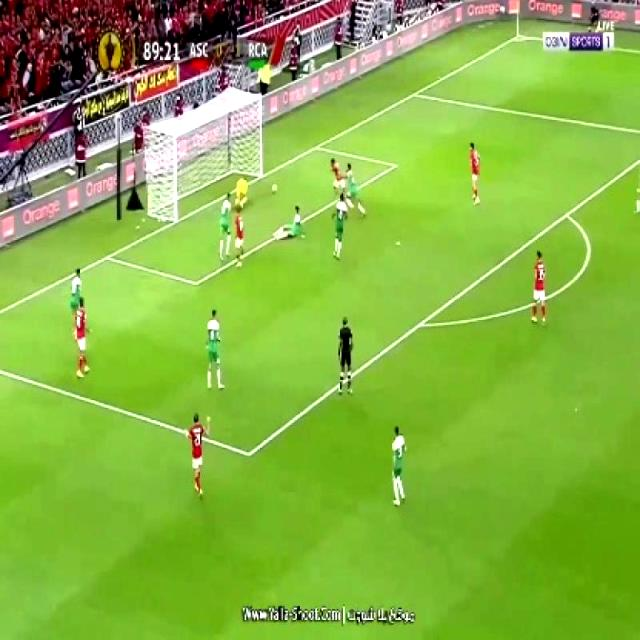bigarea_bottom_inner: (236, 437, 258, 468)
bigarea_top_outter: (404, 83, 422, 103)
bottom_arc_area_intersection: (409, 309, 429, 336)
corner: (508, 26, 529, 44)
smallarea_bottom_inner: (185, 268, 205, 296)
smallarea_bottom_outter: (97, 244, 115, 266)
smallarea_top_inner: (384, 154, 402, 176)
smallarea_top_outter: (308, 135, 322, 157)
top_arc_area_intersection: (558, 203, 574, 223)
